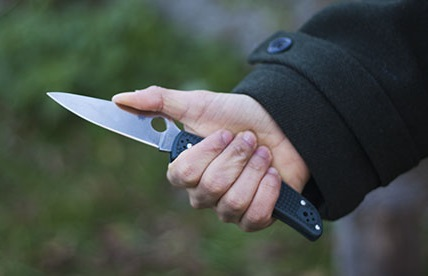knife: (40, 82, 227, 195)
